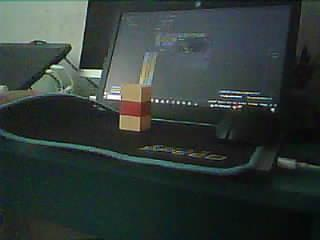lego: (119, 83, 153, 132)
